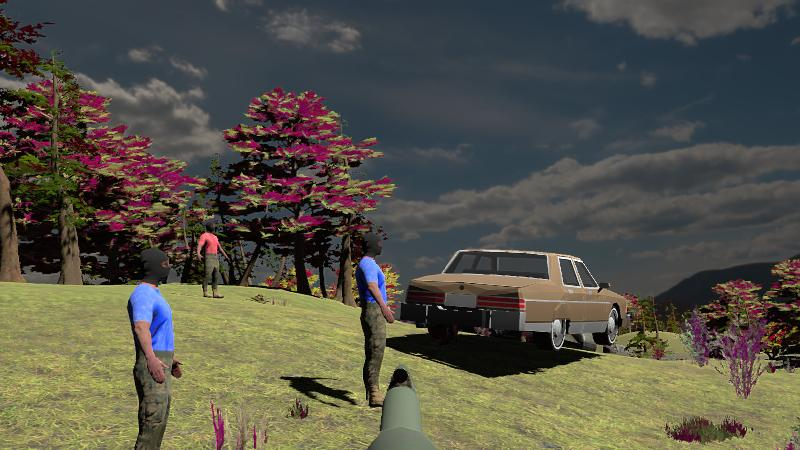Human: (129, 246, 182, 450), (357, 228, 396, 410), (198, 220, 228, 298)
car: (400, 248, 638, 352)
